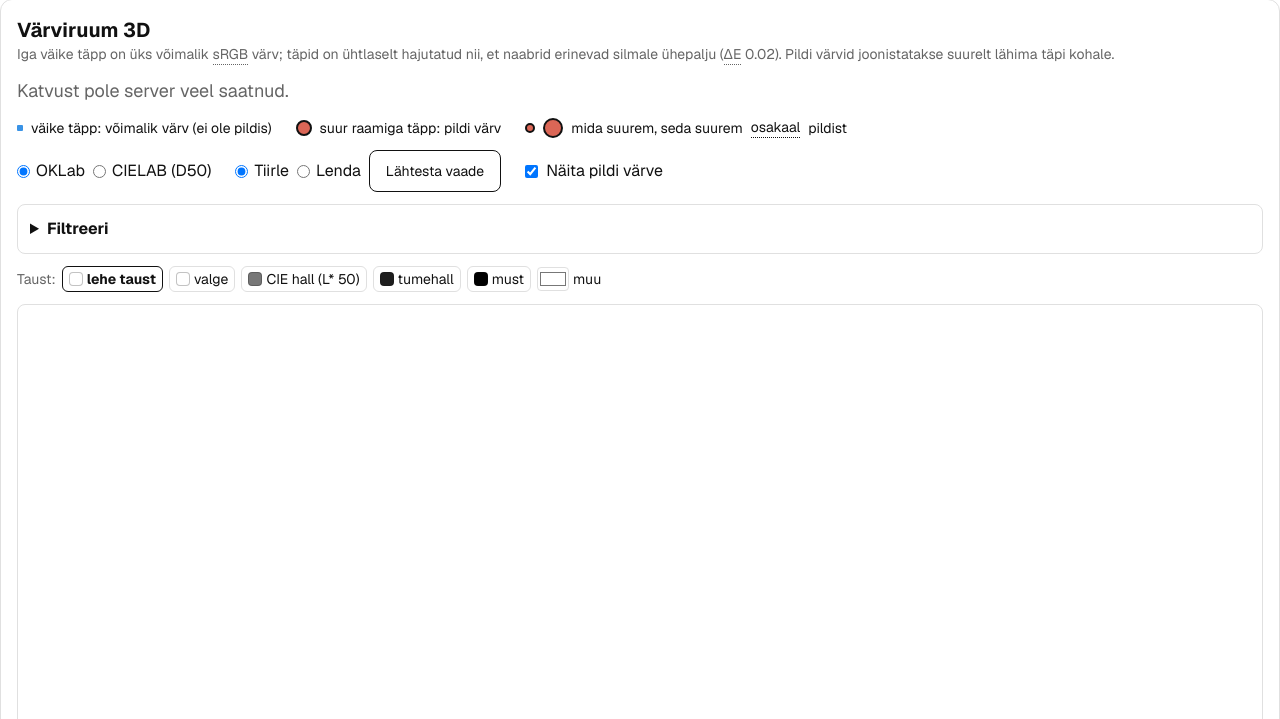
Test: GamutSection › explains the camera keys for the chosen mode
Click the radio button labelled "Lenda" at (304, 171), box [297,164,310,178]
(page scrolled)
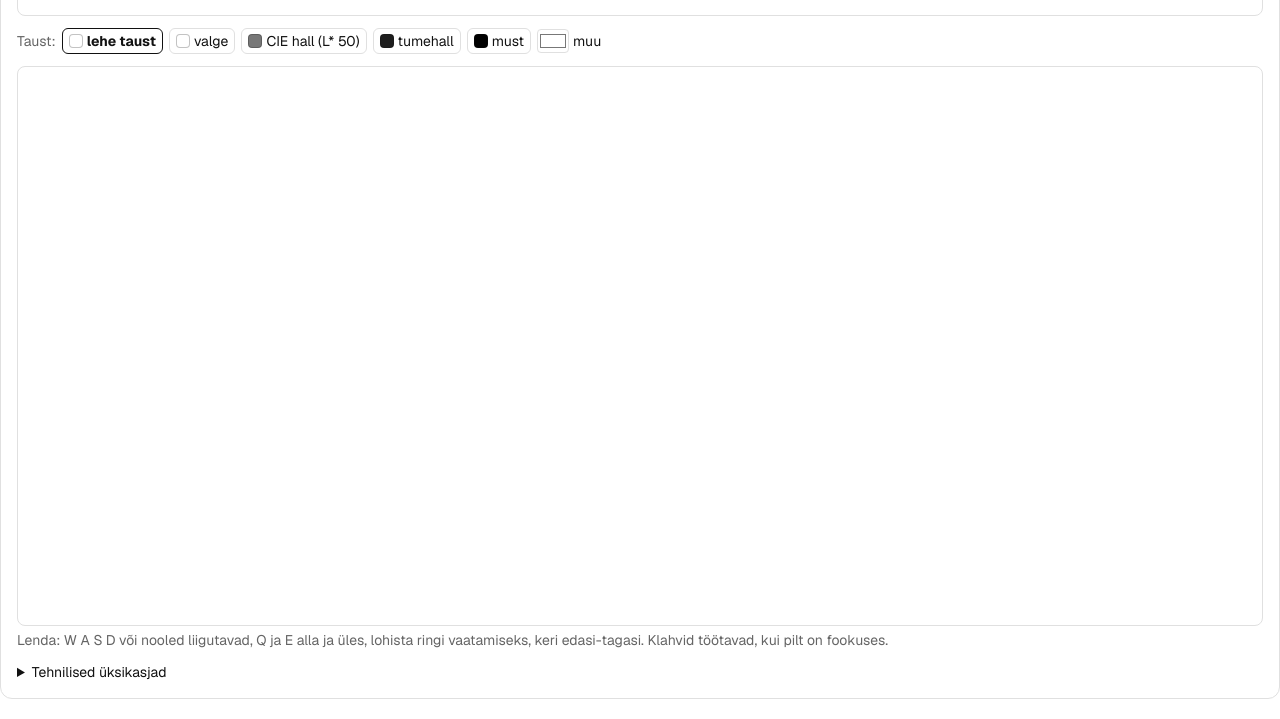
Now the text "Lenda: W A S D või nooled liigutavad, Q ja E alla ja üles" is shown, box [17,631,644,649]
